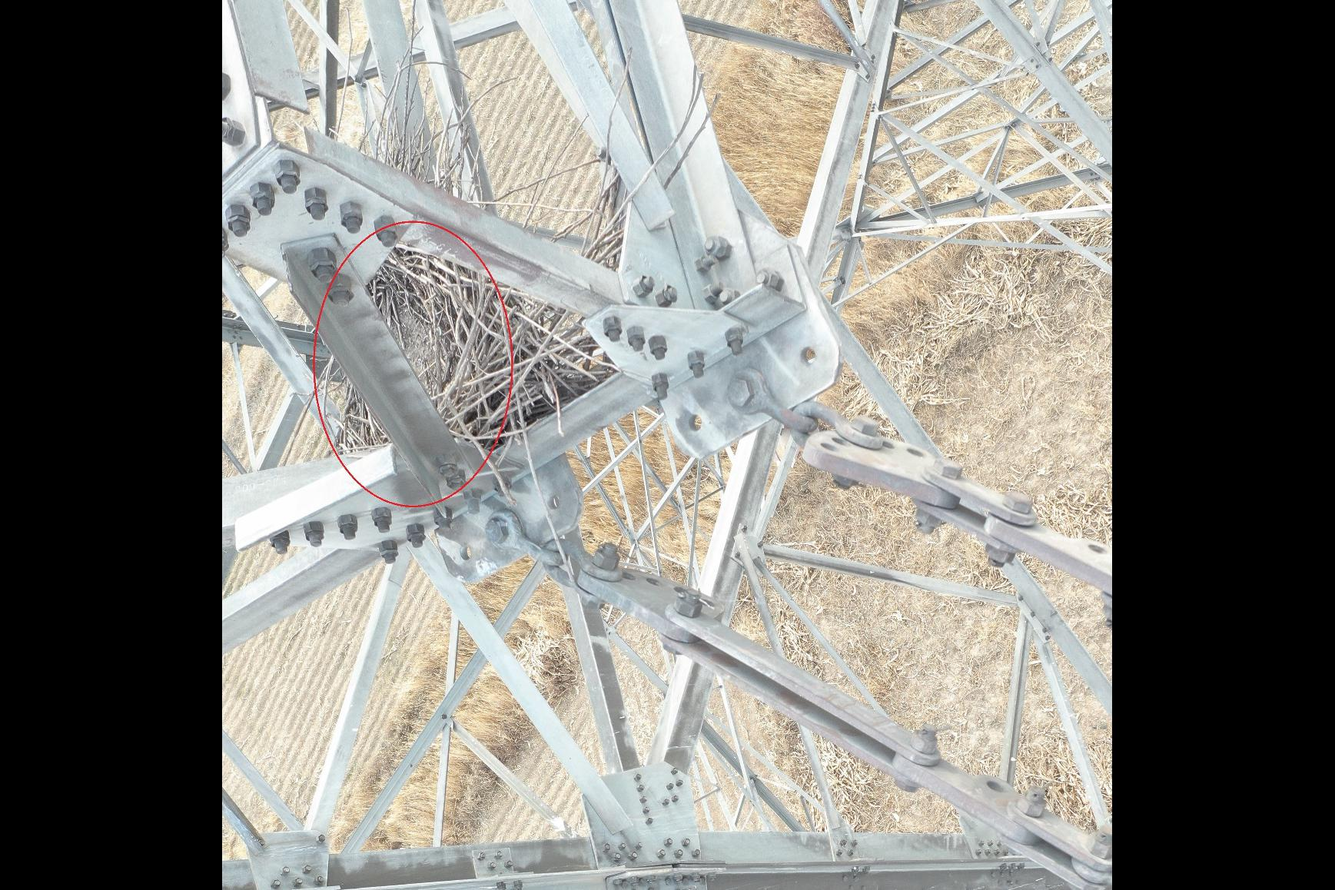nest: (337, 107, 600, 456)
